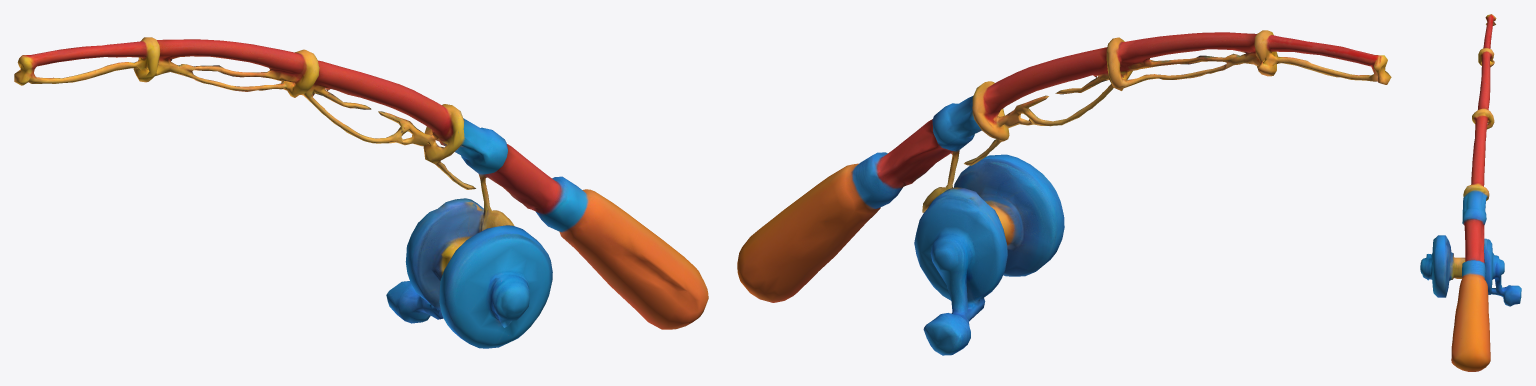
Rendered from FishingRod.fbx.
3 views of the same model, side by side, from view 1: azimuth 30°, elevation 25°; view 2: azimuth 150°, elevation 25°; view 3: azimuth 270°, elevation 25° (orthographic). The views are drawn at different scales.
Parts seen in each view (by area): view 1: Mesh_0; view 2: Mesh_0; view 3: Mesh_0.
Boxes of the visible parts, <box> form: Mesh_0: <box>14,37,708,348</box>; Mesh_0: <box>737,30,1391,355</box>; Mesh_0: <box>1420,14,1521,371</box>.
Size of the model in its own units: 200 by 118 by 52.85.
Materials: 1 (1 with a texture image).
